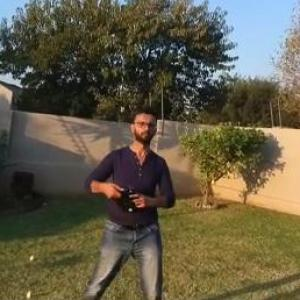follow: (74, 102, 183, 299)
